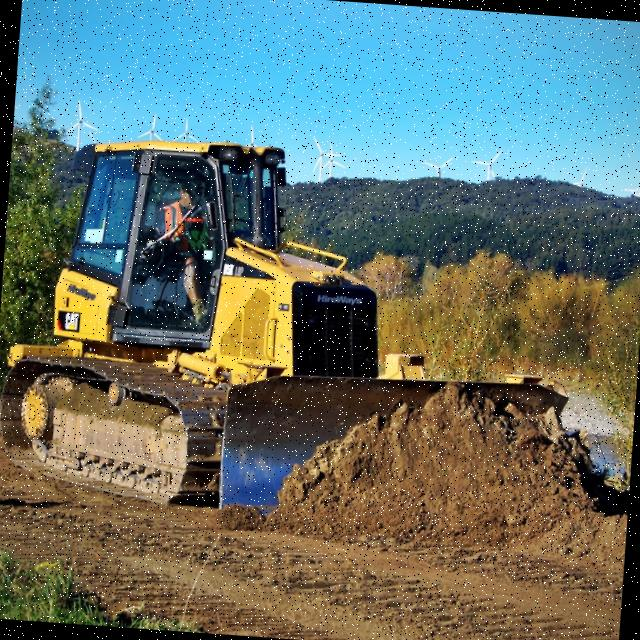Bulldozer: (0, 109, 584, 559)
